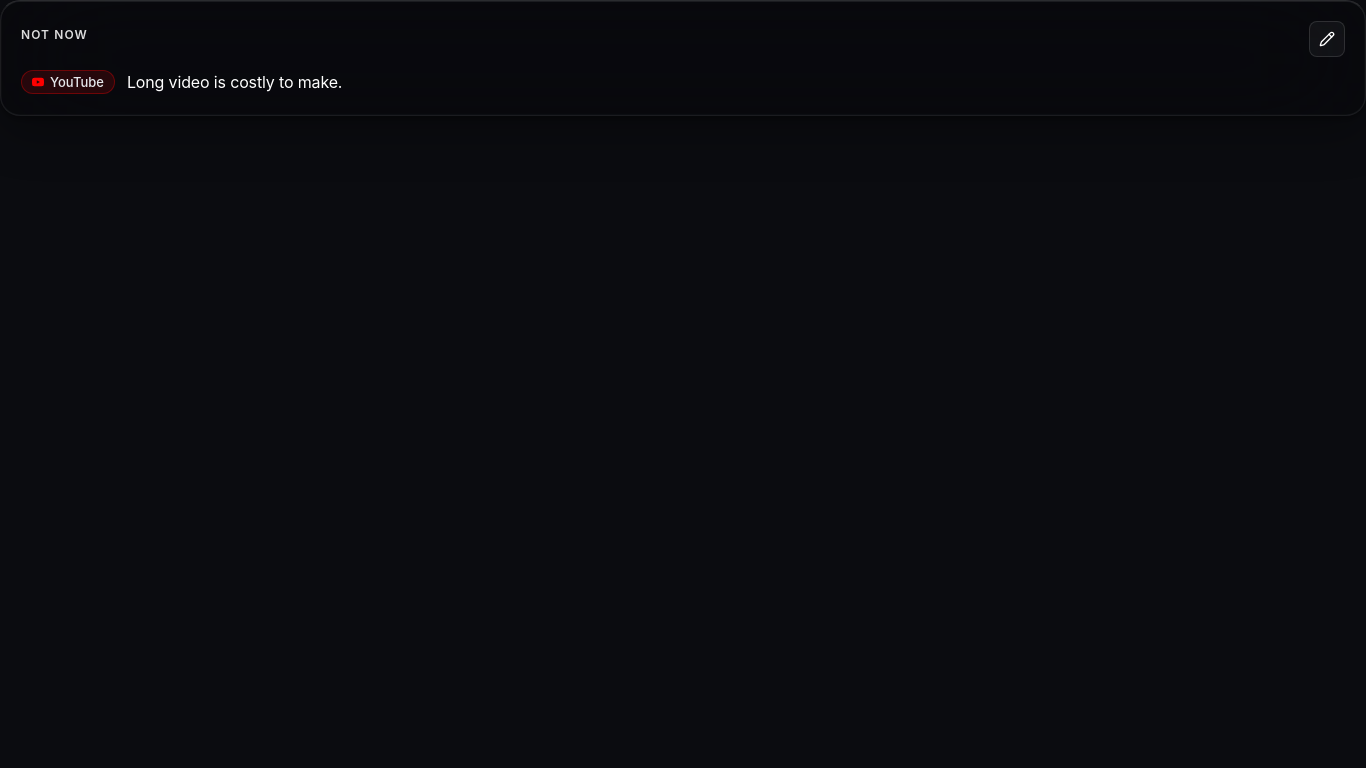
the edit sheet › picks a platform beside each Not now reason
Later steps or results of the test are not shown.
Click the button named "Edit not now" at {"x": 1327, "y": 39}, box left=1309, top=21, right=1345, bottom=57
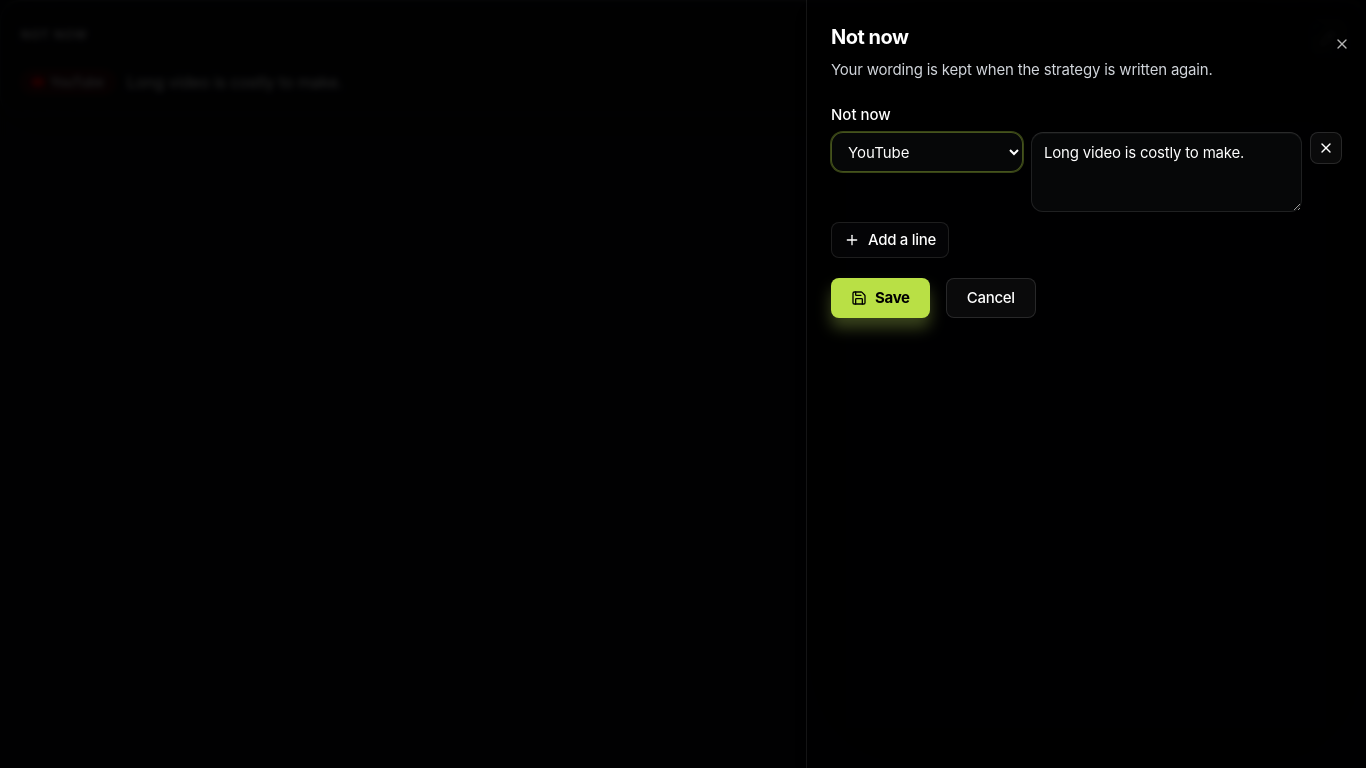
Now the dropdown named "Platform 1" shows "YouTube", box left=831, top=132, right=1023, bottom=172
